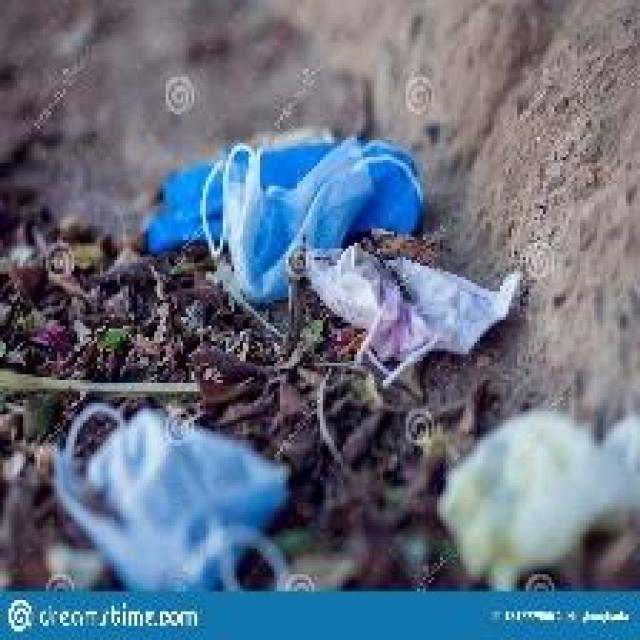Mask: (130, 122, 497, 378), (43, 396, 309, 612), (434, 432, 639, 580)
